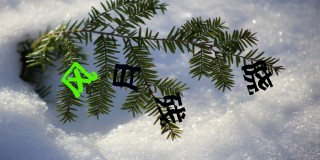晓: (241, 59, 274, 95)
月: (112, 63, 142, 93)
残: (155, 92, 186, 126)
风: (60, 61, 97, 97)
